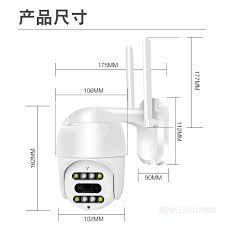maru: (51, 100, 135, 213)
